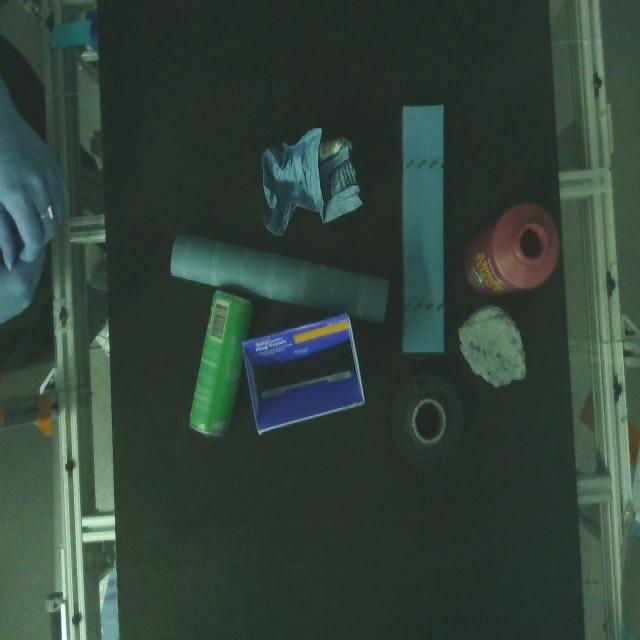non-paper: (188, 288, 256, 449), (462, 196, 563, 298), (383, 365, 467, 472), (454, 300, 531, 393)
paper: (163, 225, 395, 332), (237, 310, 370, 440), (254, 120, 365, 246), (394, 98, 448, 355)
